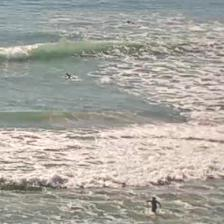surfer: (66, 73, 73, 80), (126, 20, 135, 25)
